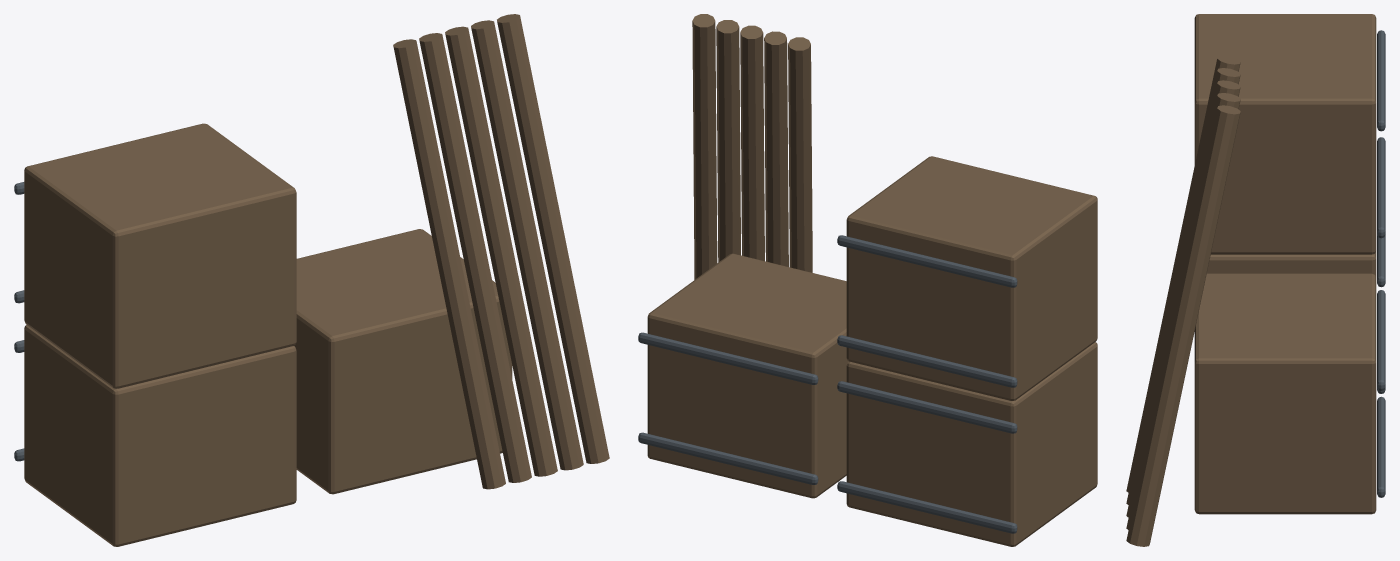
Rendered from dungeon_storage.glb.
3 renders of one model, left to right at view 1: azimuth 30°, elevation 25°; view 2: azimuth 150°, elevation 25°; view 3: azimuth 270°, elevation 25°, orthographic. The views are drawn at different scales.
Parts seen in each view (by area): view 1: Body.026; view 2: Body.026; view 3: Body.026.
Boxes of the visible parts, x1,y1,x2,y2 form: Body.026: [14, 14, 609, 546]; Body.026: [638, 14, 1097, 546]; Body.026: [1126, 14, 1385, 546].
Size of the model in its own units: 2.18 by 1.87 by 1.06.
